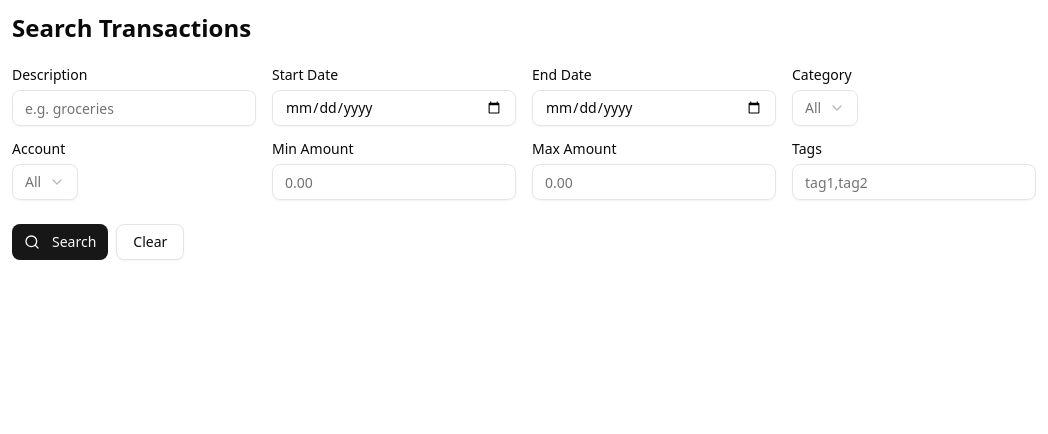
Test case: SearchPage › clears results on Clear button click
Step 1. Type "groceries" into the field labelled "Description" → x=134, y=108, box 12,90 -> 256,126
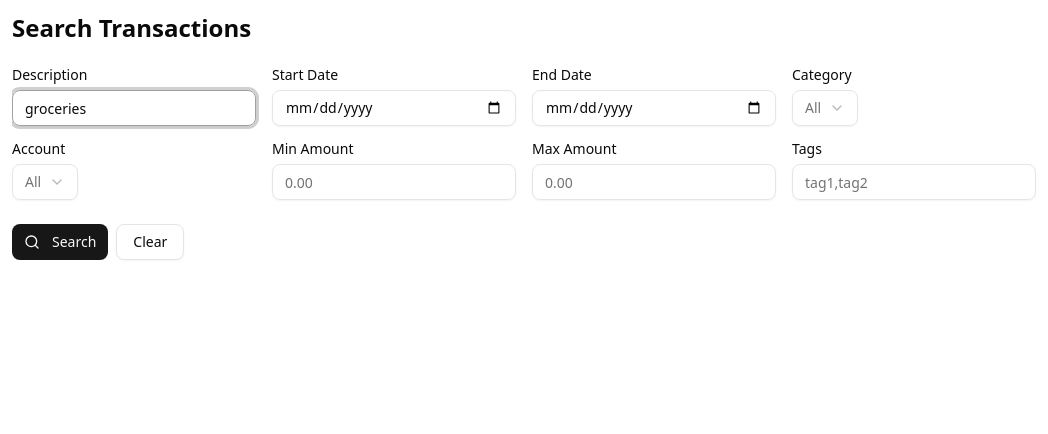
Step 2. Click the button "Search" → x=60, y=242, box 12,224 -> 108,260
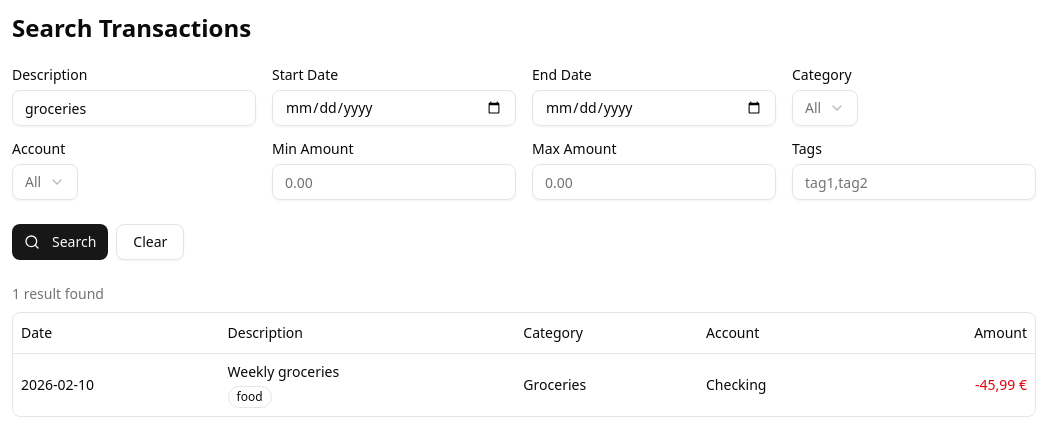
Expected: the text "Weekly groceries" is shown, 228,362 -> 339,380
Step 3. Click the button "Clear" → x=150, y=242, box 116,224 -> 184,260
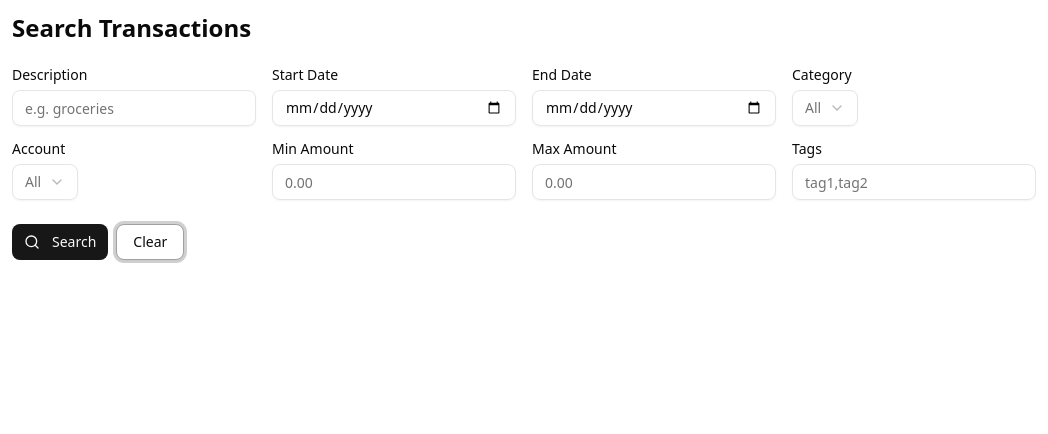
Expected: the text "Weekly groceries" is gone
Expected: the text "result" is gone
